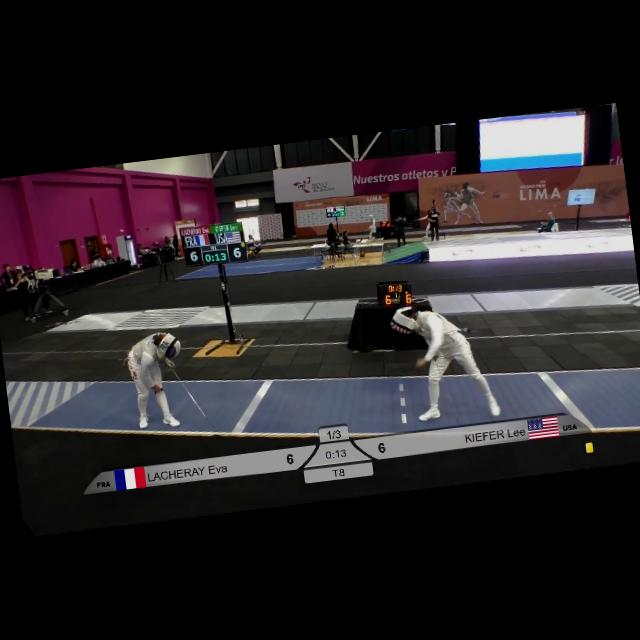blade: (164, 354, 219, 440), (430, 350, 456, 416)
